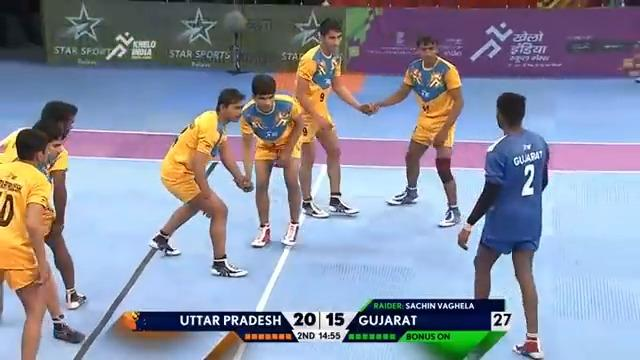Player: (148, 87, 253, 277), (366, 34, 464, 227), (0, 100, 87, 310), (293, 17, 377, 218), (239, 73, 305, 247)
Raider: (457, 91, 549, 359)
